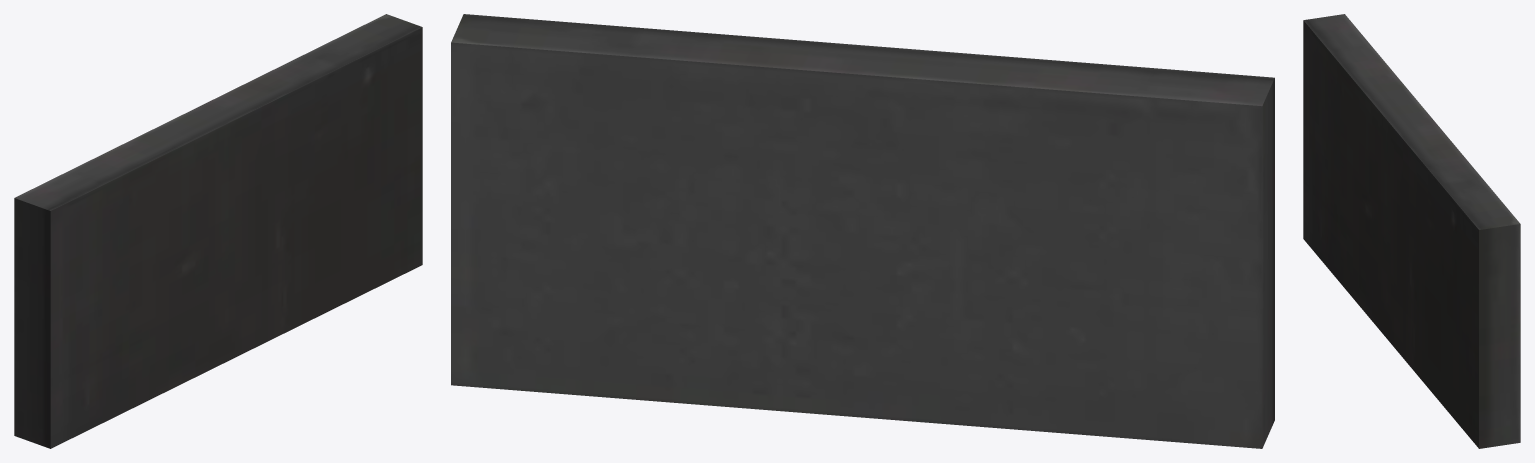
The model's file is backrest__index_plate.glb.
3 renders of one model, left to right at view 1: azimuth 30°, elevation 25°; view 2: azimuth 150°, elevation 25°; view 3: azimuth 270°, elevation 25°, orthographic. The views are drawn at different scales.
Visible parts, largest first — view 1: world; view 2: world; view 3: world.
Part boxes in pixels (<box>): world: <box>14,14,422,448</box>; world: <box>451,14,1274,448</box>; world: <box>1303,14,1520,448</box>.
Size of the model in its own units: 0.2329 by 0.11 by 0.0989.
Materials: 1 (1 with a texture image).
